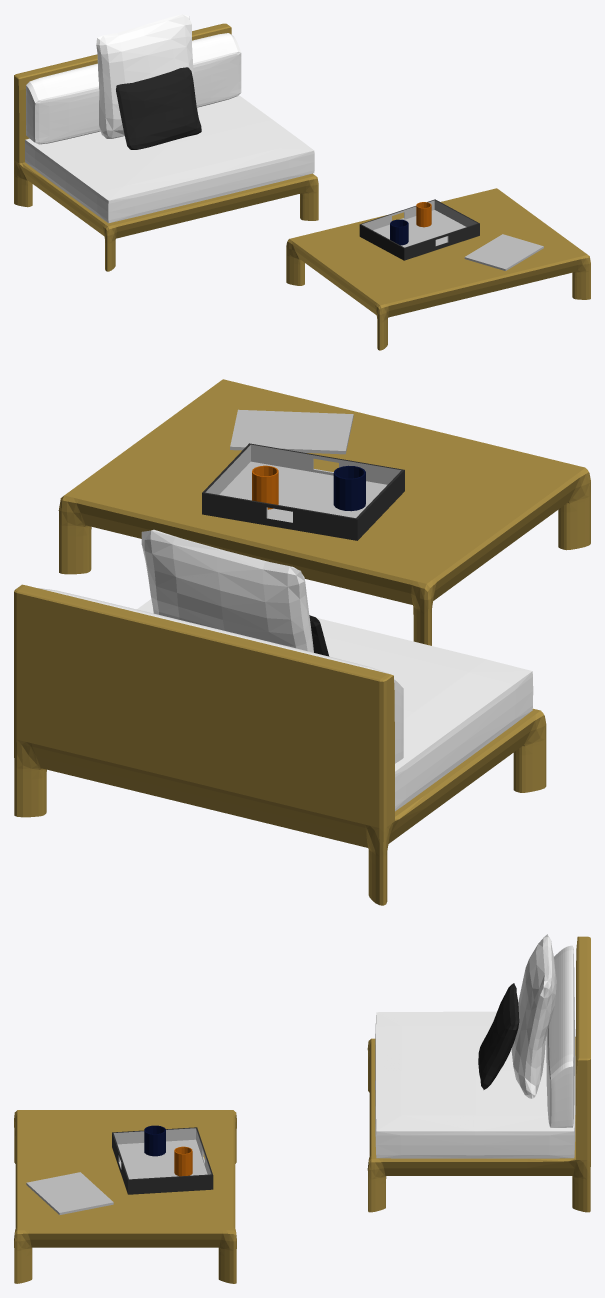
File: ext_chairs_and_table.obj
The picture shows the model from 3 angles, top to bottom: view 1: azimuth 30°, elevation 25°; view 2: azimuth 150°, elevation 25°; view 3: azimuth 270°, elevation 25°; orthographic projection. The views are drawn at different scales.
Parts seen in each view (by area): view 1: cojin_cuad_EXT_Cube.026, mesita_ext2_Cube.012, mesita_ext1_Cube.006, cojin_espal_ext_Cube.027, cojin_blanco_EXT_Cube.029, cojin_negro_EXT_Cube.028, bandeja_madera_Cube.126, revista1_Cube.007, vaso_ext_Cylinder.007; view 2: mesita_ext1_Cube.006, mesita_ext2_Cube.012, cojin_cuad_EXT_Cube.026, cojin_blanco_EXT_Cube.029, bandeja_madera_Cube.126, revista1_Cube.007, cojin_espal_ext_Cube.027, vaso_ext_Cylinder.007, vaso_ext.001_Cylinder.008; view 3: mesita_ext2_Cube.012, cojin_cuad_EXT_Cube.026, mesita_ext1_Cube.006, bandeja_madera_Cube.126, cojin_blanco_EXT_Cube.029, cojin_espal_ext_Cube.027, cojin_negro_EXT_Cube.028, revista1_Cube.007, vaso_ext_Cylinder.007, vaso_ext.001_Cylinder.008.
Part boxes in pixels (left/top/right/bottom): cojin_cuad_EXT_Cube.026: left=25, top=95, right=314, bottom=223; mesita_ext2_Cube.012: left=286, top=188, right=590, bottom=350; mesita_ext1_Cube.006: left=14, top=23, right=318, bottom=271; cojin_espal_ext_Cube.027: left=26, top=33, right=241, bottom=144; cojin_blanco_EXT_Cube.029: left=96, top=14, right=197, bottom=138; cojin_negro_EXT_Cube.028: left=116, top=67, right=201, bottom=149; bandeja_madera_Cube.126: left=359, top=199, right=479, bottom=260; revista1_Cube.007: left=464, top=234, right=543, bottom=270; vaso_ext_Cylinder.007: left=390, top=219, right=408, bottom=245; mesita_ext1_Cube.006: left=14, top=584, right=546, bottom=905; mesita_ext2_Cube.012: left=58, top=379, right=590, bottom=645; cojin_cuad_EXT_Cube.026: left=137, top=599, right=533, bottom=811; cojin_blanco_EXT_Cube.029: left=141, top=529, right=313, bottom=652; bandeja_madera_Cube.126: left=202, top=443, right=404, bottom=540; revista1_Cube.007: left=230, top=409, right=353, bottom=454; cojin_espal_ext_Cube.027: left=37, top=588, right=403, bottom=763; vaso_ext_Cylinder.007: left=333, top=465, right=365, bottom=511; vaso_ext.001_Cylinder.008: left=252, top=465, right=278, bottom=509; mesita_ext2_Cube.012: left=14, top=1110, right=236, bottom=1283; cojin_cuad_EXT_Cube.026: left=375, top=1011, right=575, bottom=1158; mesita_ext1_Cube.006: left=367, top=936, right=590, bottom=1212; bandeja_madera_Cube.126: left=112, top=1127, right=213, bottom=1194; cojin_blanco_EXT_Cube.029: left=511, top=934, right=556, bottom=1098; cojin_espal_ext_Cube.027: left=546, top=945, right=574, bottom=1127; cojin_negro_EXT_Cube.028: left=478, top=983, right=519, bottom=1089; revista1_Cube.007: left=26, top=1172, right=113, bottom=1214; vaso_ext_Cylinder.007: left=144, top=1125, right=165, bottom=1156; vaso_ext.001_Cylinder.008: left=174, top=1146, right=192, bottom=1176.
Bounding box in the file's own units: 1.58 × 0.7421 × 1.98.
